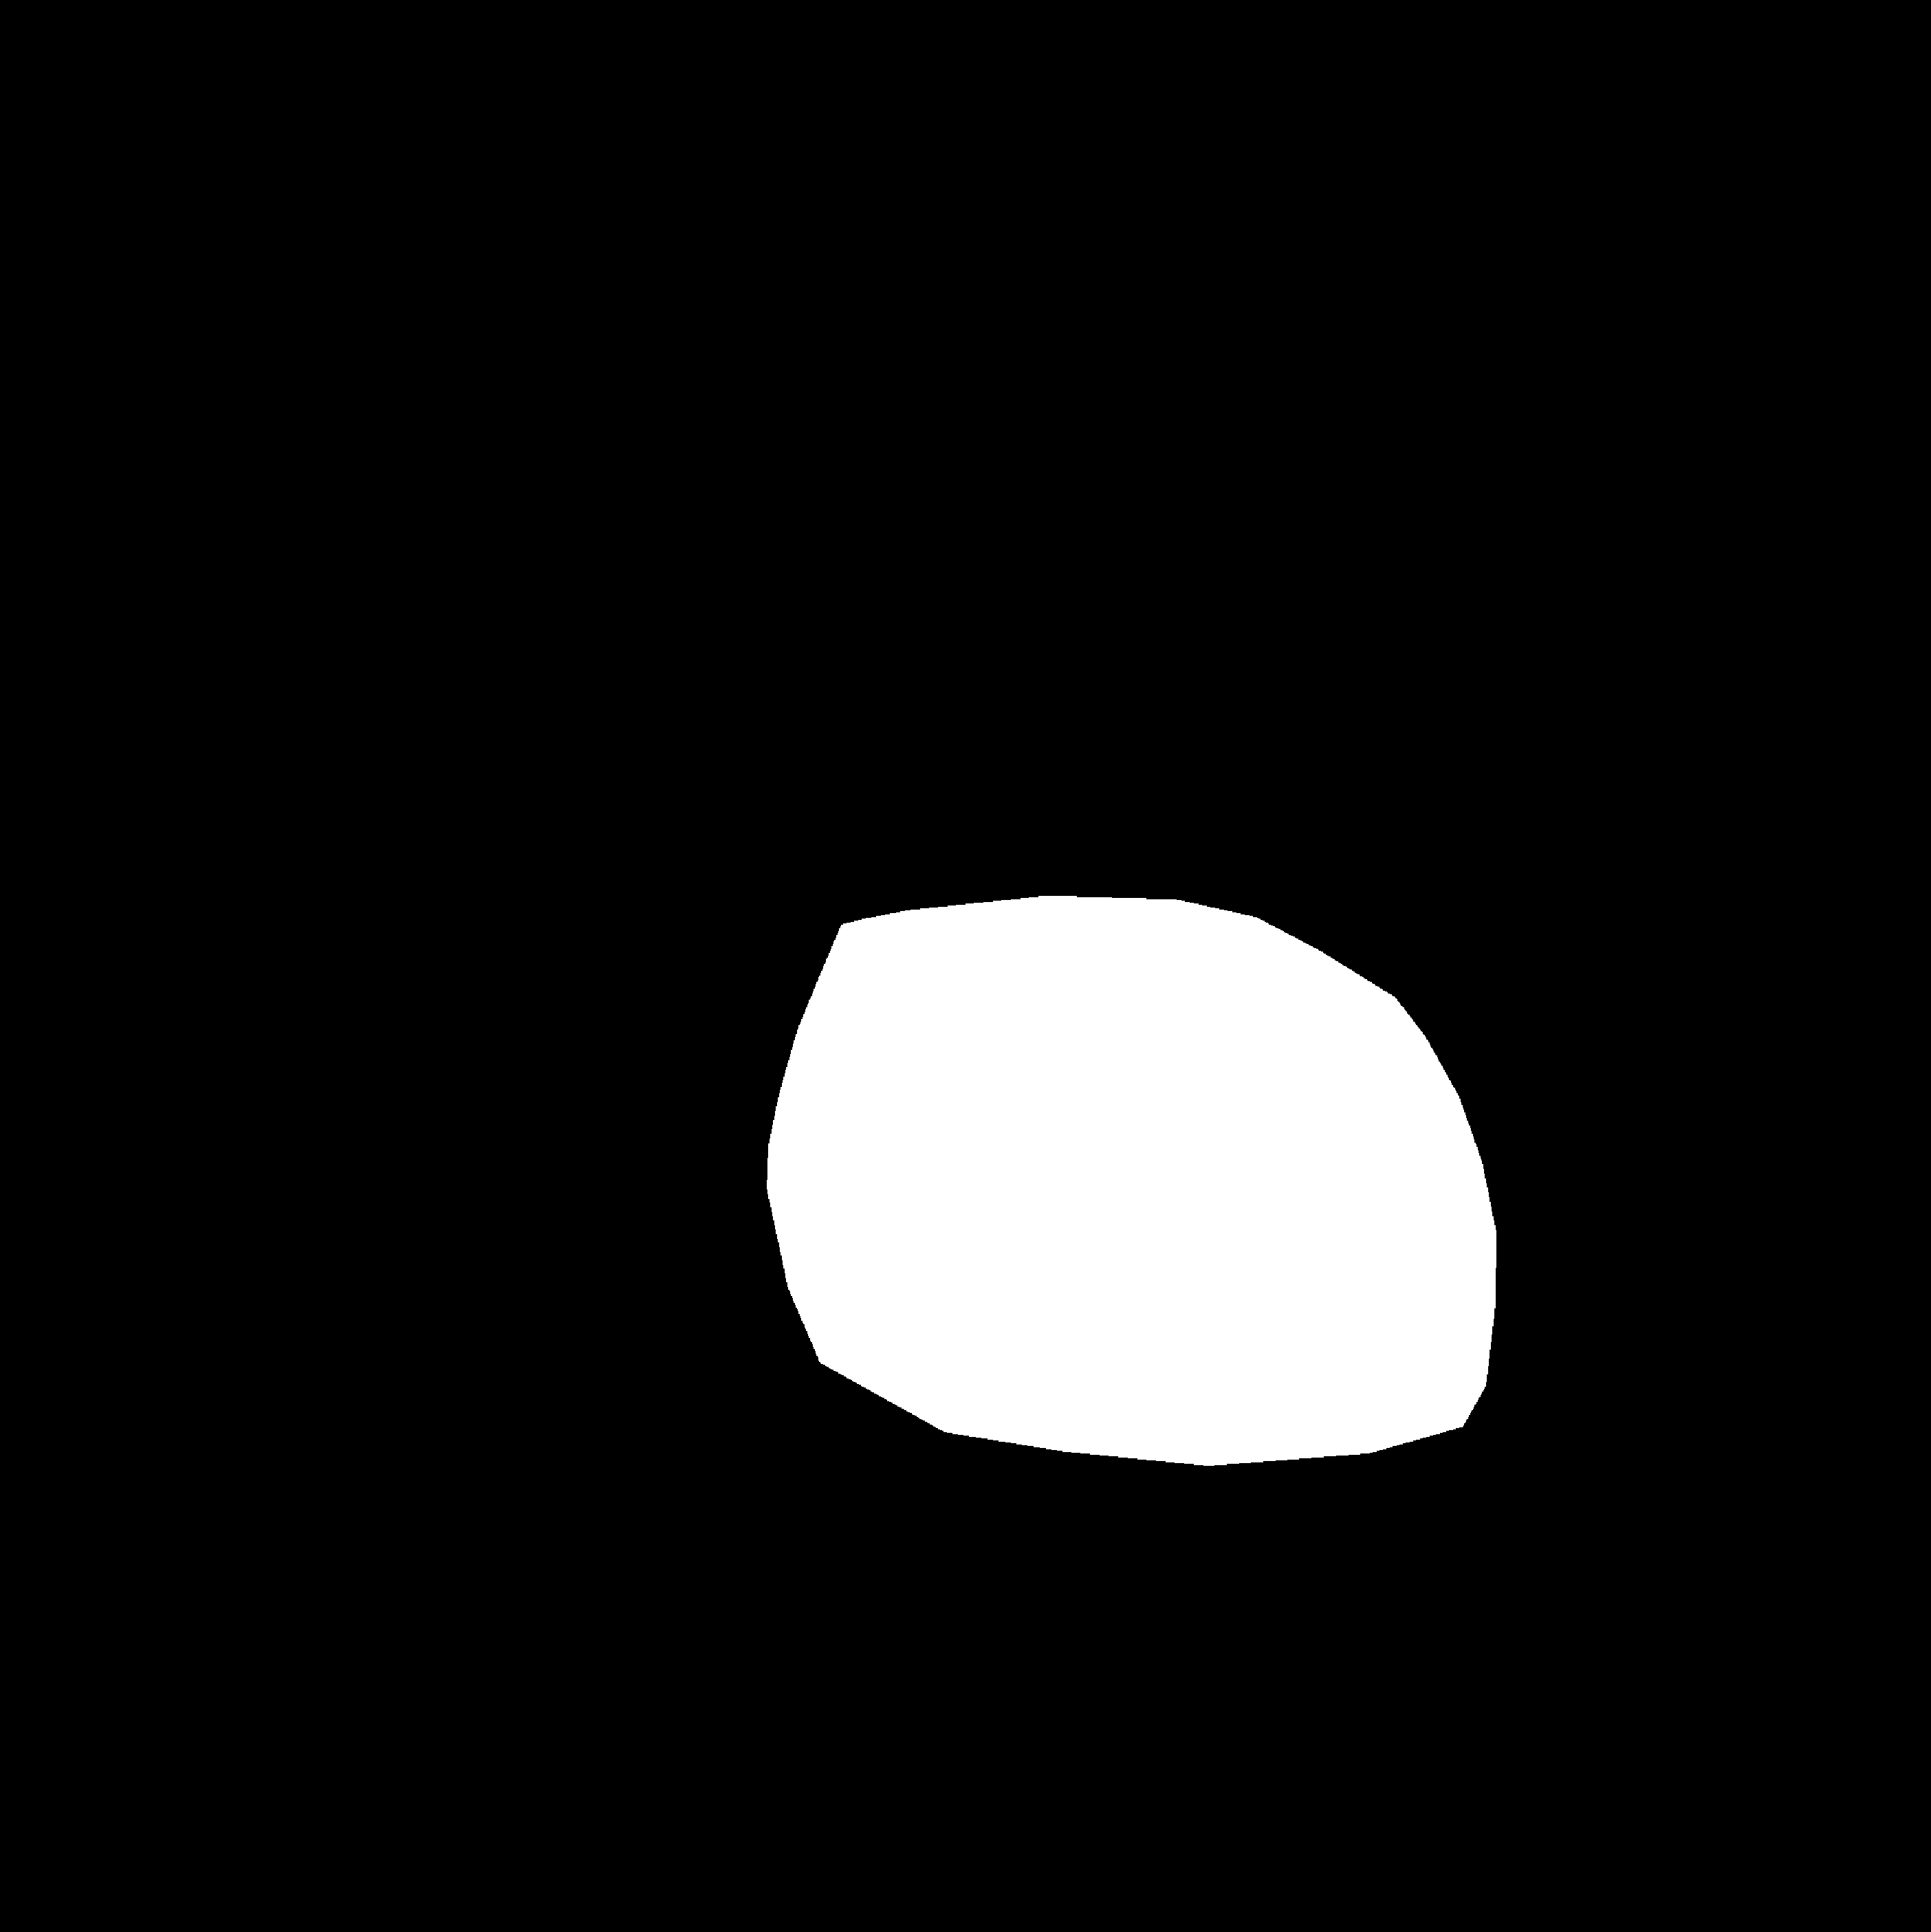heart: (769, 956, 1521, 1504)
left_lung: (140, 290, 918, 1586)
right_lung: (1068, 318, 1724, 1635)
